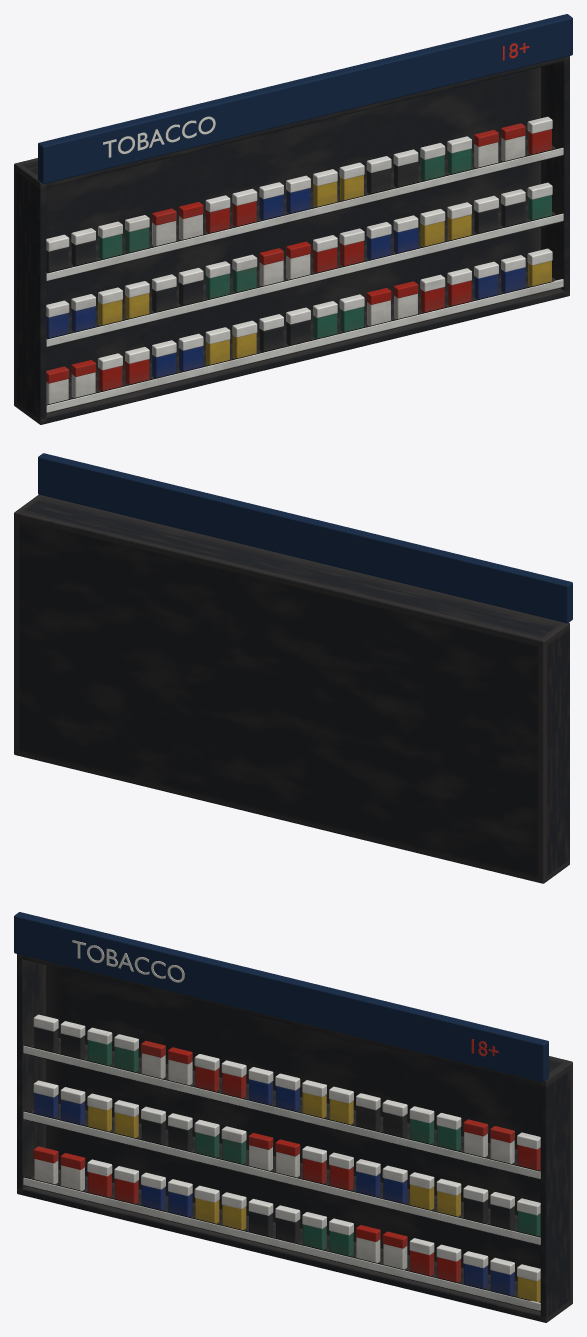
Rendered from sklep_papierosy.glb.
3 views of the same model, one above another, from view 1: azimuth 30°, elevation 25°; view 2: azimuth 150°, elevation 25°; view 3: azimuth 330°, elevation 25° (orthographic).
Parts seen in each view (by area): view 1: Regal, Napisy; view 2: Regal, Napisy; view 3: Regal, Napisy.
Boxes of the visible parts, bbox=[...] form: Regal: bbox=[14, 56, 569, 424]; Napisy: bbox=[38, 14, 572, 184]; Regal: bbox=[14, 494, 569, 883]; Napisy: bbox=[38, 453, 572, 623]; Regal: bbox=[17, 954, 572, 1322]; Napisy: bbox=[14, 912, 548, 1082].
Bounding box in the file's own units: 1.6 × 0.81 × 0.1588.
4 materials, 1 textured.
